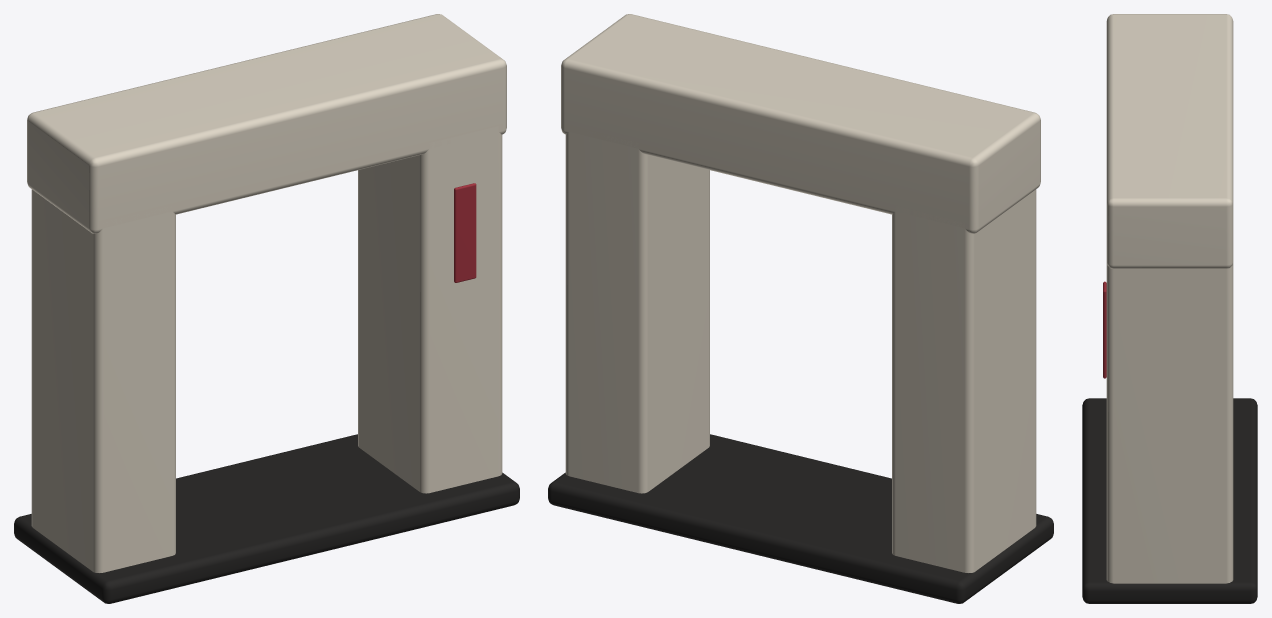
File: VSV-001.glb
3 views of the same model, side by side, from view 1: azimuth 30°, elevation 25°; view 2: azimuth 150°, elevation 25°; view 3: azimuth 270°, elevation 25° (orthographic). The views are drawn at different scales.
Parts seen in each view (by area): view 1: VSV-001_stone-portal__lintel, VSV-001_stone-portal__pier, VSV-001_stone-portal__pier.001, VSV-001_stone-portal__threshold, VSV-001_stone-portal__inlay; view 2: VSV-001_stone-portal__lintel, VSV-001_stone-portal__pier, VSV-001_stone-portal__pier.001, VSV-001_stone-portal__threshold; view 3: VSV-001_stone-portal__pier.001, VSV-001_stone-portal__lintel, VSV-001_stone-portal__threshold, VSV-001_stone-portal__inlay.
Boxes of the visible parts, x1,y1,x2,y2 form: VSV-001_stone-portal__lintel: (27,14,506,233); VSV-001_stone-portal__pier: (31,189,175,572); VSV-001_stone-portal__pier.001: (358,126,502,493); VSV-001_stone-portal__threshold: (14,434,519,603); VSV-001_stone-portal__inlay: (454,183,476,282); VSV-001_stone-portal__lintel: (561,14,1040,233); VSV-001_stone-portal__pier: (892,189,1036,572); VSV-001_stone-portal__pier.001: (565,131,709,493); VSV-001_stone-portal__threshold: (548,434,1053,603); VSV-001_stone-portal__pier.001: (1106,262,1233,583); VSV-001_stone-portal__lintel: (1106,14,1233,268); VSV-001_stone-portal__threshold: (1082,398,1257,603); VSV-001_stone-portal__inlay: (1103,281,1106,378).
Bounding box in the file's own units: 2.3 × 2.3 × 0.9.
